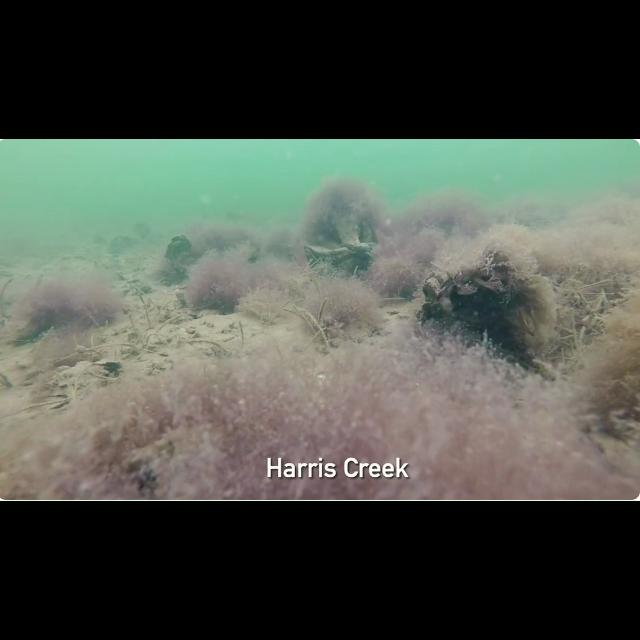Oyster-Closed: (159, 235, 195, 282), (345, 243, 378, 261), (109, 237, 139, 255), (520, 333, 544, 354), (489, 328, 514, 348), (494, 263, 514, 285), (423, 278, 441, 302), (473, 278, 503, 292), (499, 292, 525, 308), (515, 308, 534, 329), (504, 309, 524, 328), (458, 310, 479, 326), (456, 284, 478, 296), (510, 329, 526, 345), (479, 310, 495, 325), (439, 297, 453, 314), (473, 317, 488, 331)
Oyster-Open: (304, 243, 376, 272)
